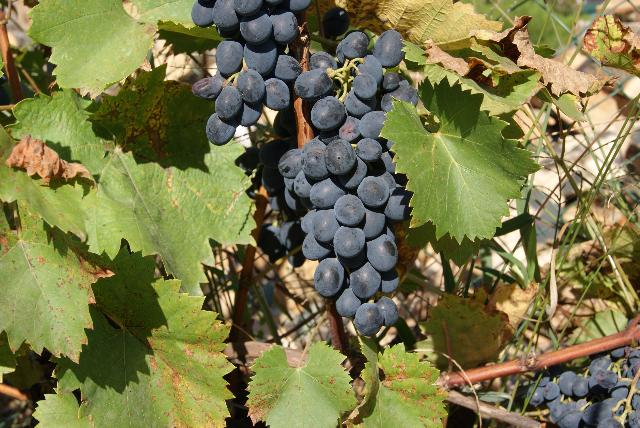grapes: (279, 30, 418, 340)
